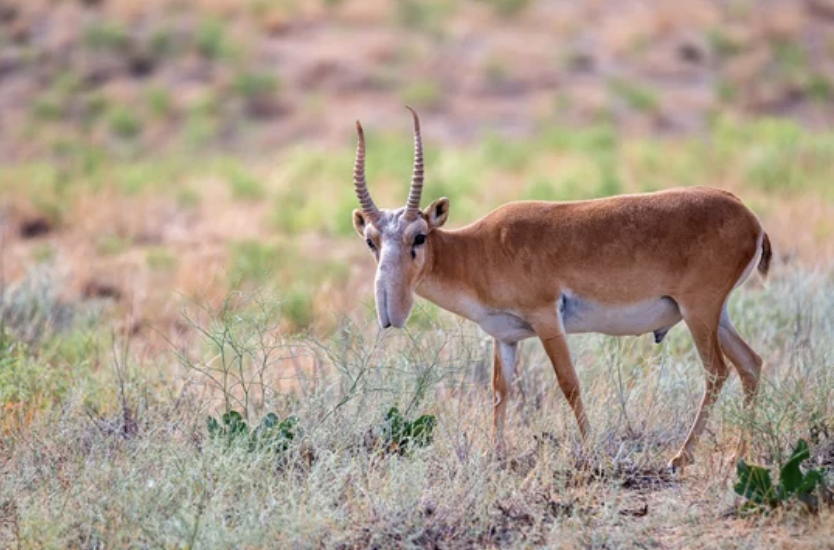saiga: (336, 103, 779, 475)
